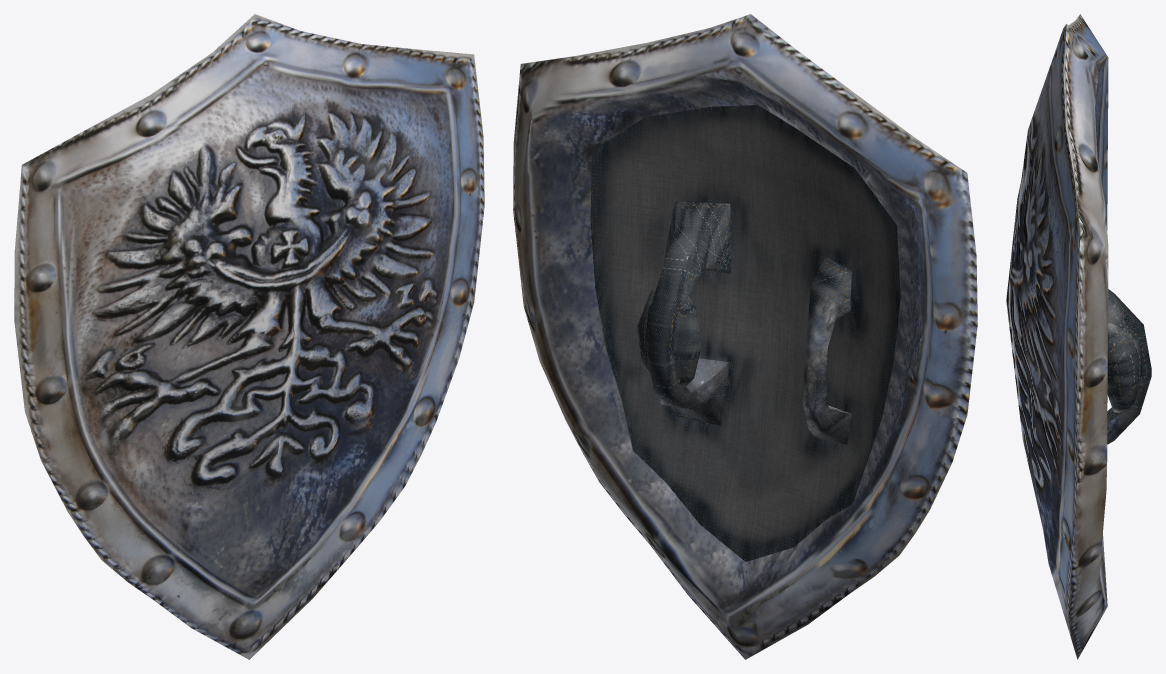
The model's file is shild.fbx.
3 views of the same model, side by side, from view 1: azimuth 30°, elevation 25°; view 2: azimuth 150°, elevation 25°; view 3: azimuth 270°, elevation 25° (orthographic). The views are drawn at different scales.
Visible parts, largest first — view 1: shlild.final.001; view 2: shlild.final.001; view 3: shlild.final.001.
Boxes of the visible parts, left/top/right/bottom form: shlild.final.001: left=14, top=14, right=484, bottom=659; shlild.final.001: left=513, top=14, right=977, bottom=659; shlild.final.001: left=1006, top=14, right=1151, bottom=659.
Size of the model in its own units: 556 by 734 by 152.
Materials: 1 (1 with a texture image).
